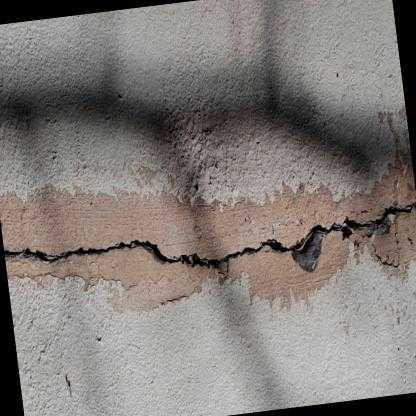crack: (3, 201, 416, 267)
